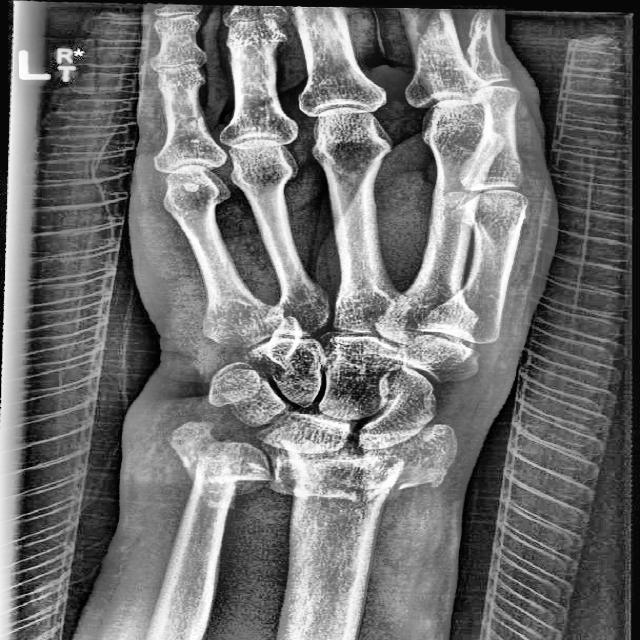fracture: (275, 455, 428, 504), (188, 458, 248, 489)
